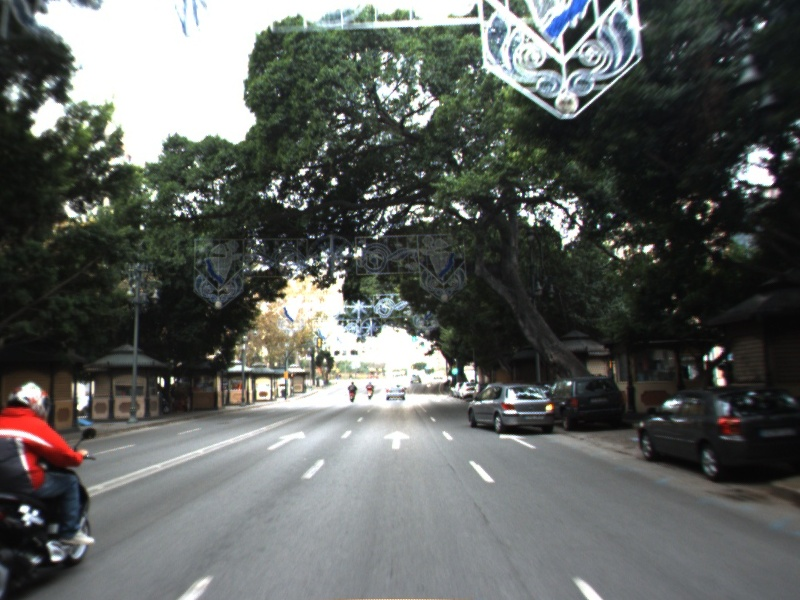STRAIGHT: (264, 430, 307, 452), (497, 431, 539, 451), (382, 428, 412, 451)
